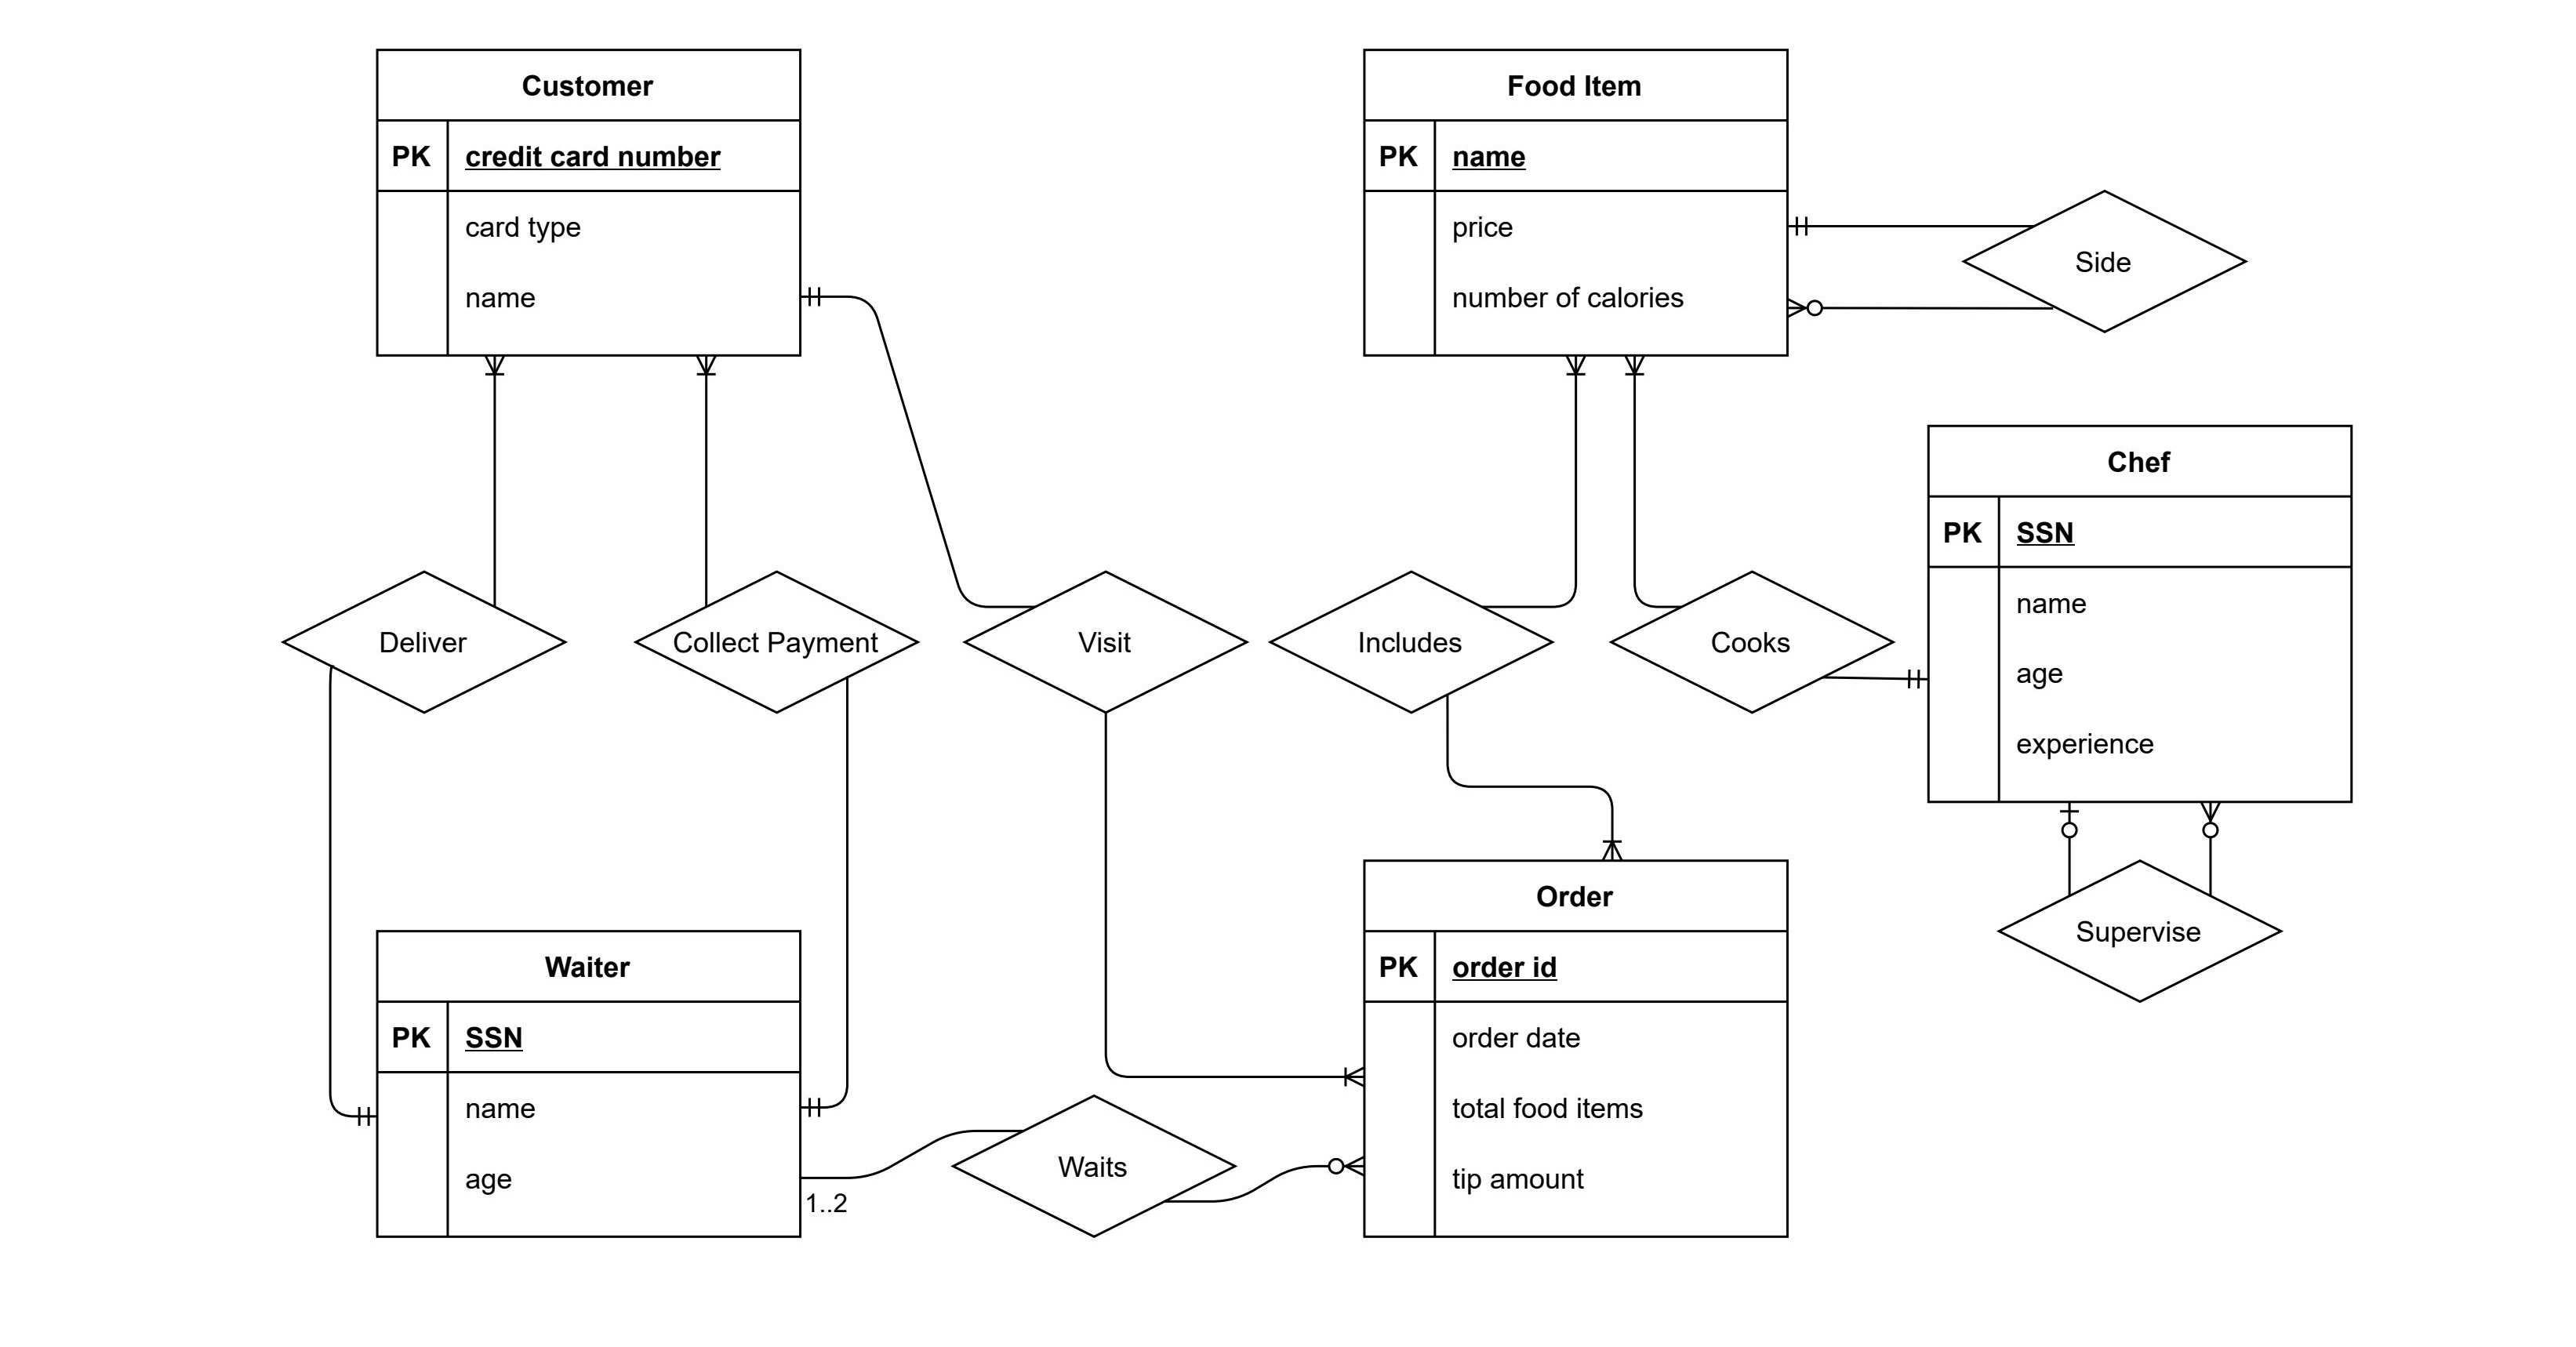Entity: (1361, 857, 1792, 1241), (1923, 422, 2355, 807), (1361, 46, 1791, 359), (375, 46, 802, 358), (375, 930, 802, 1238)
Relationship: (1268, 570, 1555, 717), (951, 1093, 1235, 1241), (632, 570, 918, 715), (1610, 569, 1896, 714), (1995, 858, 2280, 1003), (1959, 189, 2251, 330), (279, 570, 566, 714), (963, 572, 1247, 712)
